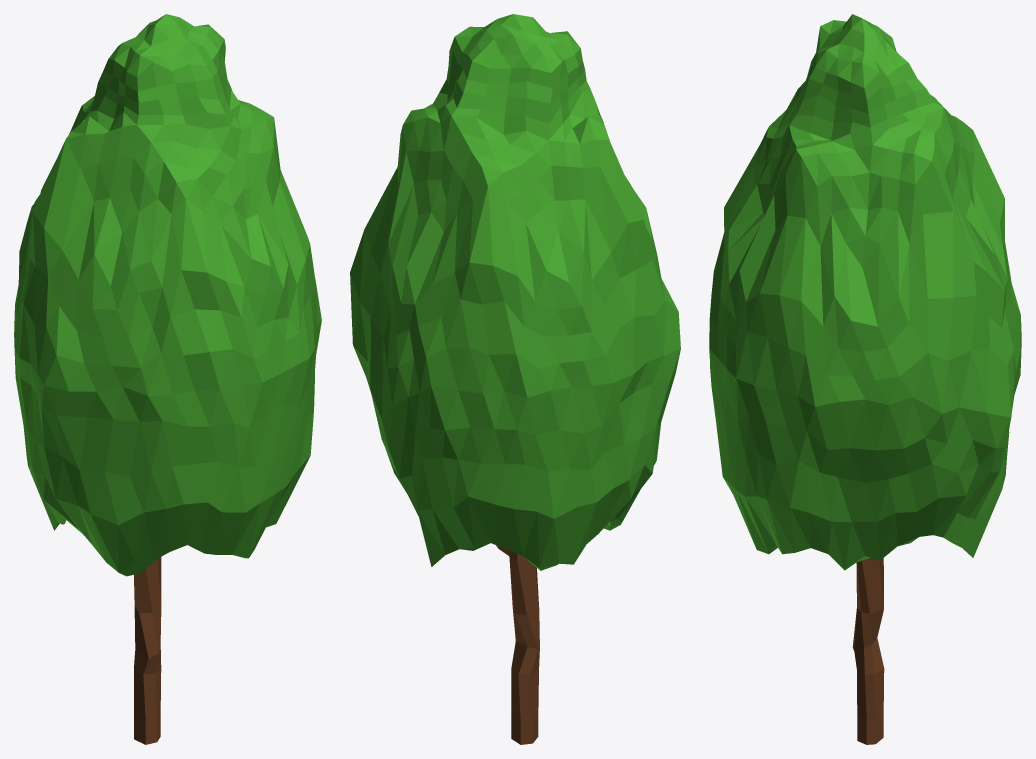
The model's file is Tree3.fbx.
3 views of the same model, side by side, from view 1: azimuth 30°, elevation 25°; view 2: azimuth 150°, elevation 25°; view 3: azimuth 270°, elevation 25° (orthographic).
Parts seen in each view (by area): view 1: Tree3; view 2: Tree3; view 3: Tree3.
Boxes of the visible parts, x1,y1,x2,y2 form: Tree3: (14, 14, 321, 744); Tree3: (350, 14, 680, 744); Tree3: (709, 14, 1021, 744).
Size of the model in its own units: 485 by 1187 by 462.
